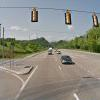Traffic light: (23, 4, 100, 31)
